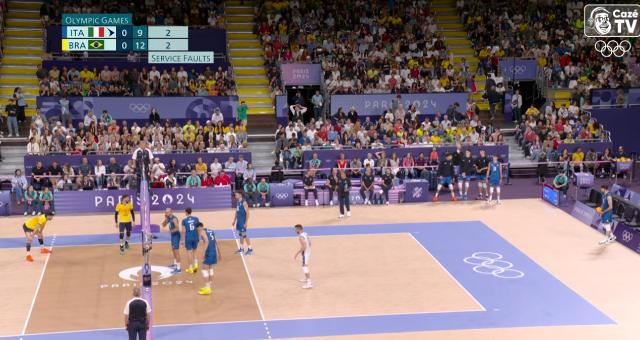Levantador: (115, 192, 134, 254), (183, 206, 197, 268)
Libero: (292, 224, 314, 292)
bola: (596, 207, 602, 215)
